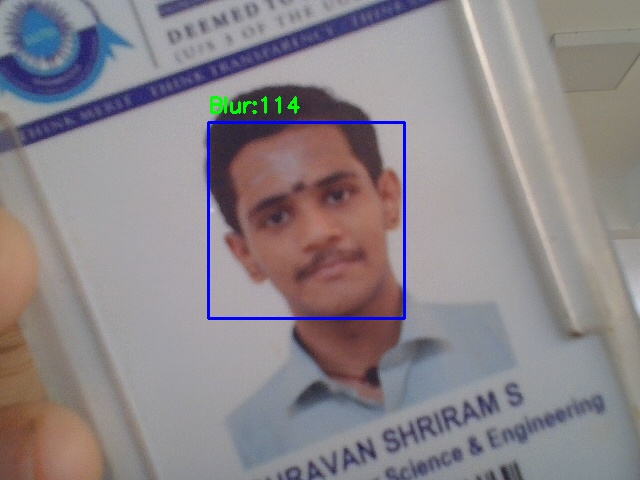fake: (208, 122, 404, 318)
